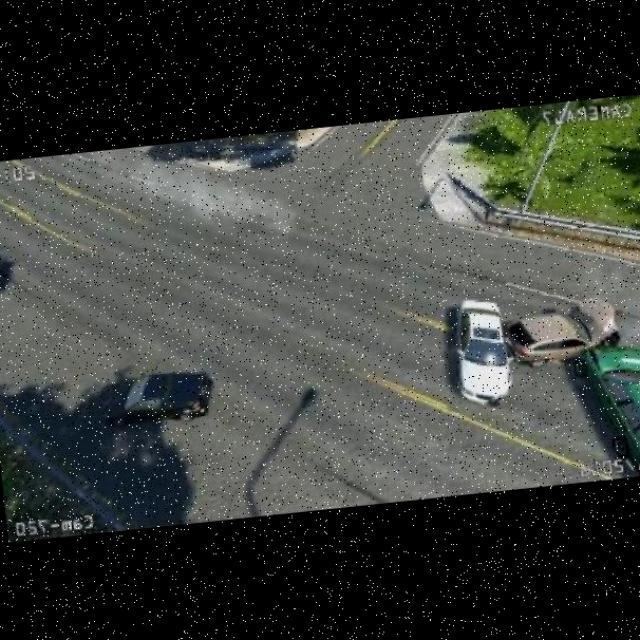accident: (432, 270, 640, 459)
